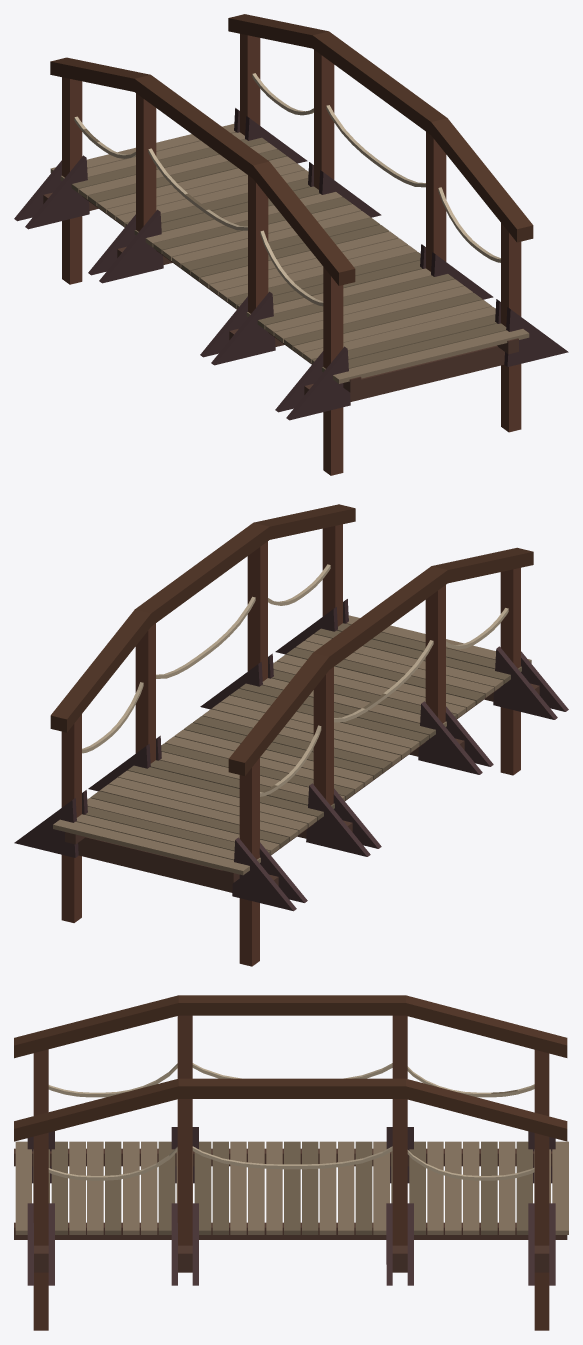
The model's file is bridge_for_UNITYFREE.fbx.
3 views of the same model, one above another, from view 1: azimuth 30°, elevation 25°; view 2: azimuth 150°, elevation 25°; view 3: azimuth 270°, elevation 25° (orthographic). The views are drawn at different scales.
Visible parts, largest first — view 1: Cube.010; view 2: Cube.010; view 3: Cube.010.
Part boxes in pixels (x1,y1,x2,y2): Cube.010: [14, 14, 568, 475]; Cube.010: [14, 504, 568, 966]; Cube.010: [14, 995, 568, 1330].
Bounding box in the file's own units: 673 × 588 × 1206.
